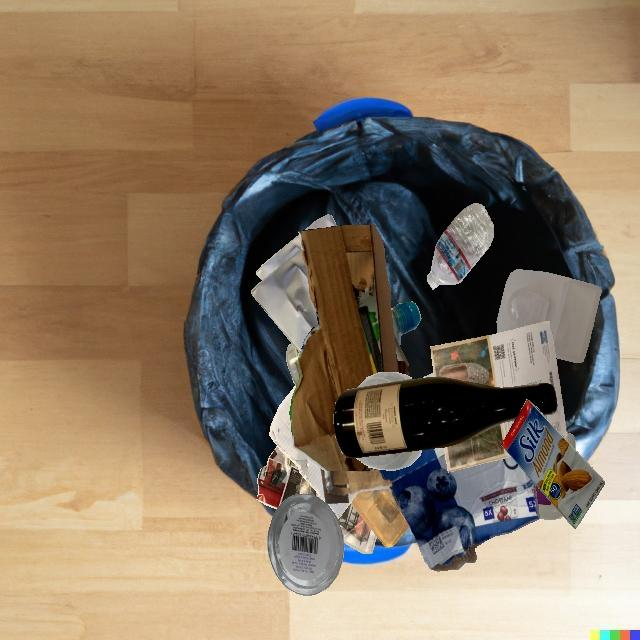cardboard: (290, 225, 409, 471), (320, 447, 540, 571), (501, 400, 605, 529)
glass: (333, 376, 557, 458)
paper: (431, 321, 568, 441), (301, 215, 401, 335), (251, 249, 318, 353), (269, 385, 325, 502), (257, 445, 319, 509), (444, 420, 515, 472), (337, 503, 377, 554)
plastic: (496, 269, 602, 363), (267, 493, 344, 596), (427, 203, 494, 289), (351, 488, 409, 548), (356, 450, 422, 471), (391, 302, 421, 346), (535, 484, 563, 520), (357, 372, 413, 388), (286, 343, 300, 386)
